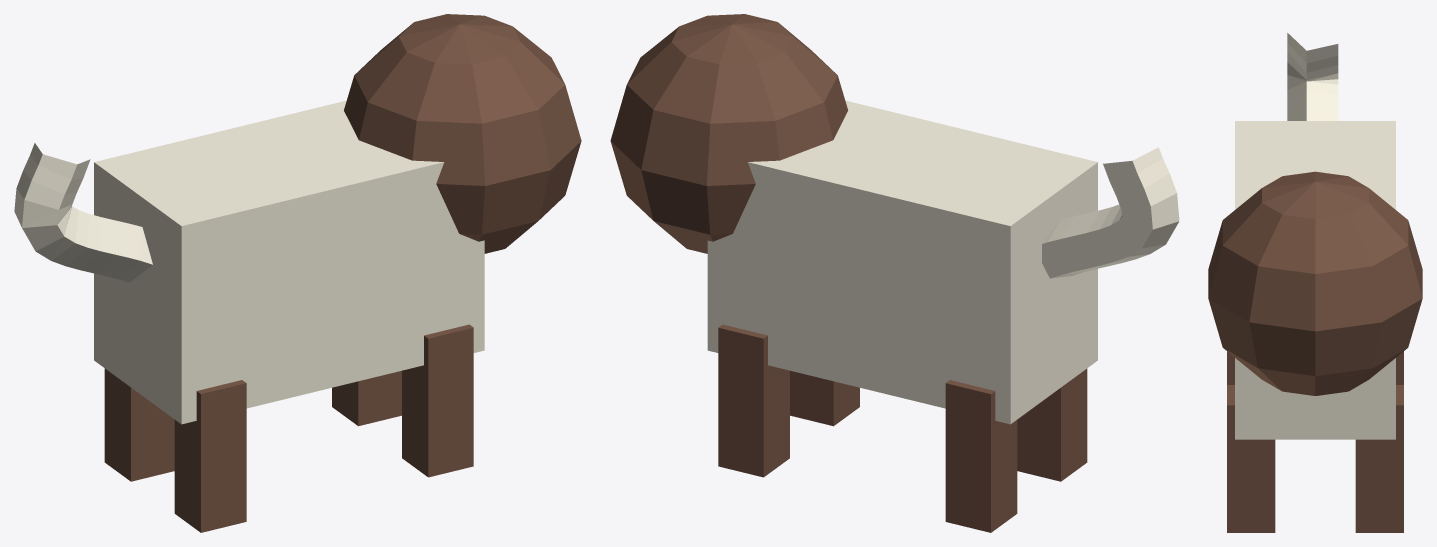
File: dog.glb
3 renders of one model, left to right at view 1: azimuth 30°, elevation 25°; view 2: azimuth 150°, elevation 25°; view 3: azimuth 270°, elevation 25°, orthographic. The views are drawn at different scales.
Visible parts, largest first — view 1: DogMesh; view 2: DogMesh; view 3: DogMesh.
Part boxes in pixels (left/top/right/bottom): DogMesh: left=14, top=14, right=581, bottom=532; DogMesh: left=610, top=14, right=1179, bottom=532; DogMesh: left=1208, top=33, right=1422, bottom=532.
Size of the model in its own units: 1.45 by 1 by 0.5326.
1 material, 1 textured.
